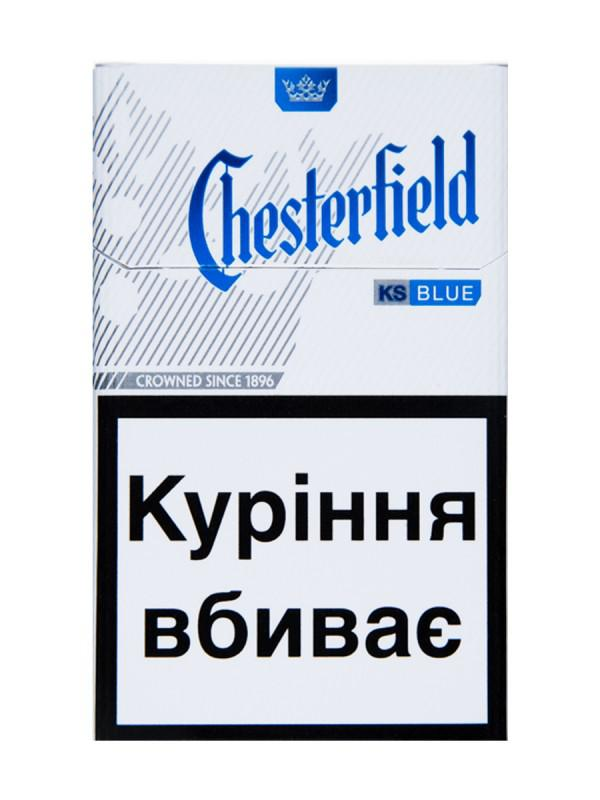chesterfield_blue: (94, 67, 508, 745)
